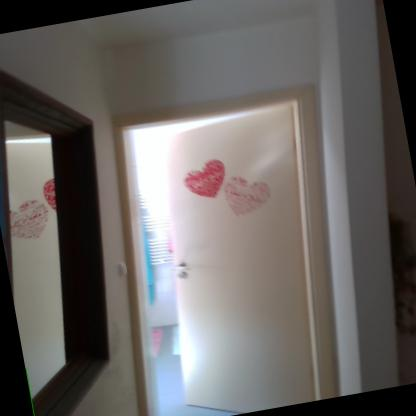semi: (74, 61, 381, 415)
